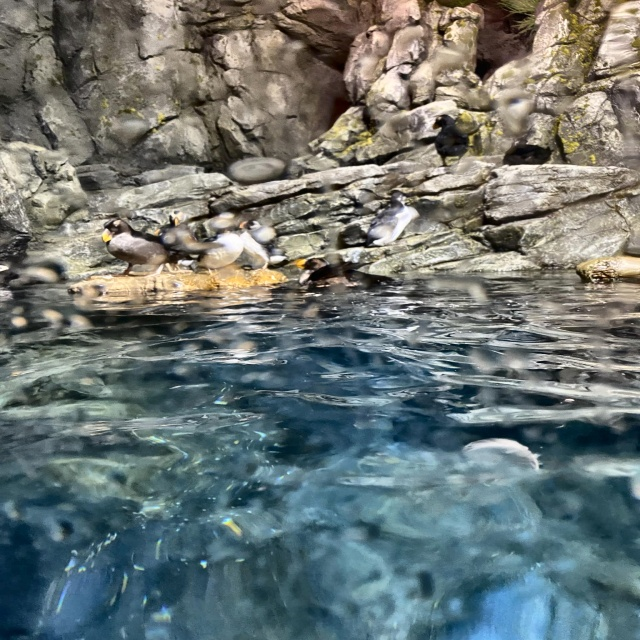puffin: (102, 218, 172, 277), (154, 211, 222, 265), (363, 190, 418, 247), (430, 112, 484, 165), (227, 225, 287, 271), (194, 227, 244, 271), (300, 251, 354, 285), (502, 143, 552, 166), (241, 220, 279, 247)
